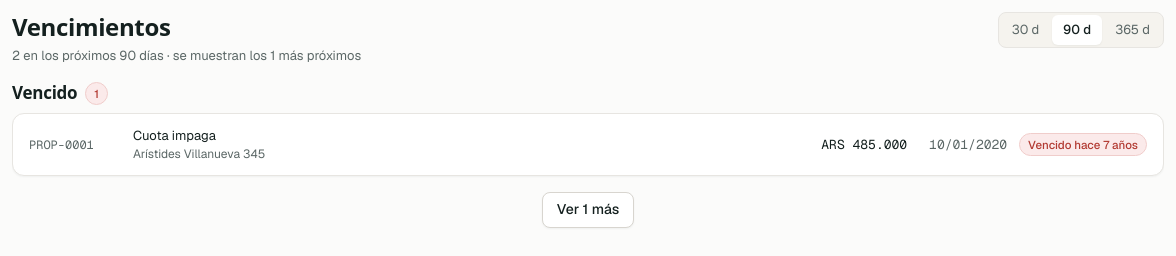
VencimientosPage › «Ver más» agrega a la lista en vez de reemplazarla
Click the button "Ver 1 más".
click(588, 210)  # box 542,192 -> 634,228
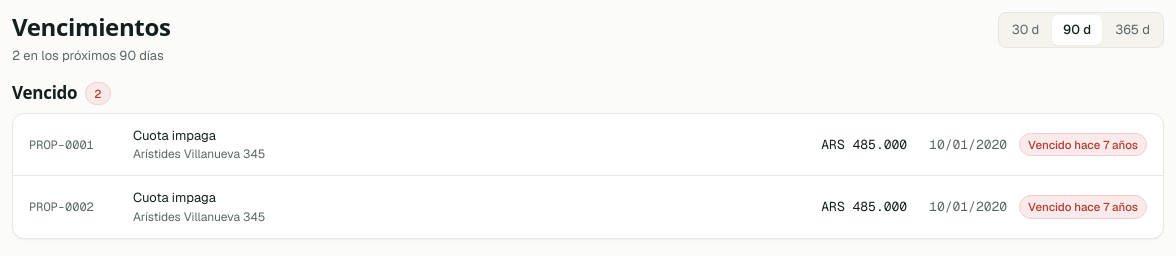
Expected: the text "PROP-0001" is shown, 29,136 -> 94,152
Expected: the text "PROP-0002" is shown, 29,199 -> 94,215
